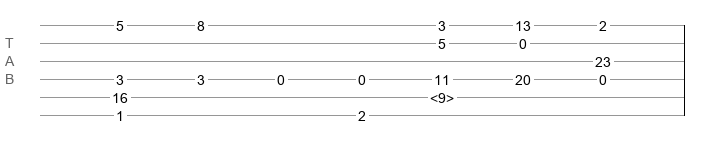0: (277, 72, 285, 82), (358, 72, 366, 82), (519, 36, 527, 46), (599, 72, 607, 82)
1: (116, 108, 124, 118)
11: (434, 72, 450, 82)
13: (515, 18, 531, 28)
16: (112, 90, 128, 100)
2: (358, 108, 366, 118), (599, 18, 607, 28)
20: (515, 72, 531, 82)
23: (595, 54, 611, 64)
3: (116, 72, 124, 82), (197, 72, 205, 82), (438, 18, 446, 28)
5: (116, 18, 124, 28), (438, 36, 446, 46)
8: (197, 18, 205, 28)
harmonic: (430, 90, 454, 100)
